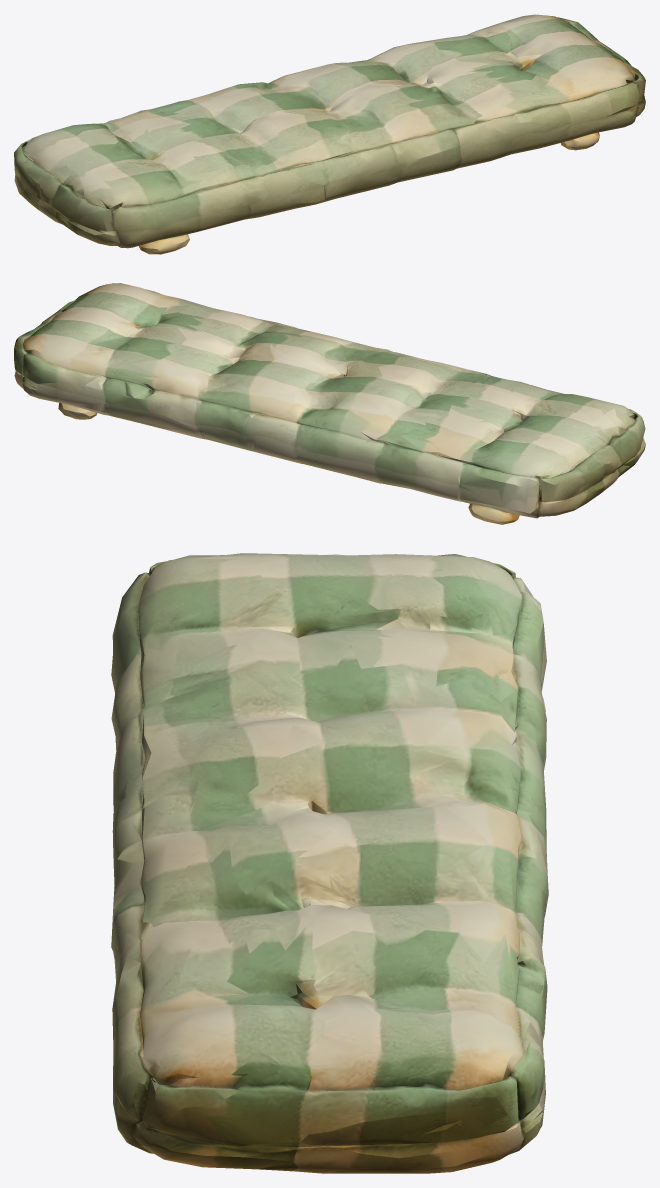
File: bench_cushion.glb
The picture shows the model from 3 angles, top to bottom: view 1: azimuth 30°, elevation 25°; view 2: azimuth 150°, elevation 25°; view 3: azimuth 270°, elevation 25°; orthographic projection. The views are drawn at different scales.
Parts seen in each view (by area): view 1: tripo_node_d3dab044-c72b-4d3a-91d9-ae084ad90615; view 2: tripo_node_d3dab044-c72b-4d3a-91d9-ae084ad90615; view 3: tripo_node_d3dab044-c72b-4d3a-91d9-ae084ad90615.
Part boxes in pixels (box(x1,y1,x2,y2)): tripo_node_d3dab044-c72b-4d3a-91d9-ae084ad90615: box(14, 14, 645, 254); tripo_node_d3dab044-c72b-4d3a-91d9-ae084ad90615: box(14, 283, 645, 524); tripo_node_d3dab044-c72b-4d3a-91d9-ae084ad90615: box(111, 553, 548, 1173).
Bounding box in the file's own units: 1.18 × 0.1397 × 0.3902.
Materials: 1 (1 with a texture image).
